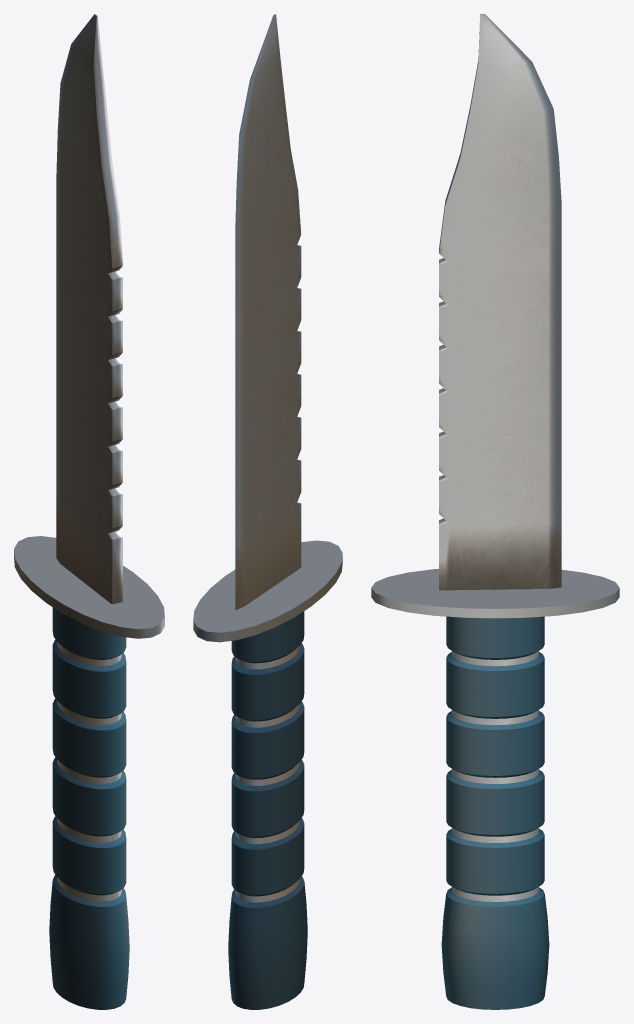
The model's file is Faca Vermelha.fbx.
3 renders of one model, left to right at view 1: azimuth 30°, elevation 25°; view 2: azimuth 150°, elevation 25°; view 3: azimuth 270°, elevation 25°, orthographic.
Visible parts, largest first — view 1: Parte de baixo Vermelha.002; view 2: Parte de baixo Vermelha.002; view 3: Parte de baixo Vermelha.002.
Part boxes in pixels (<box>): Parte de baixo Vermelha.002: <box>14,14,164,1009</box>; Parte de baixo Vermelha.002: <box>193,14,342,1009</box>; Parte de baixo Vermelha.002: <box>371,14,619,1009</box>.
Bounding box in the file's own units: 205 × 2205 × 506.
